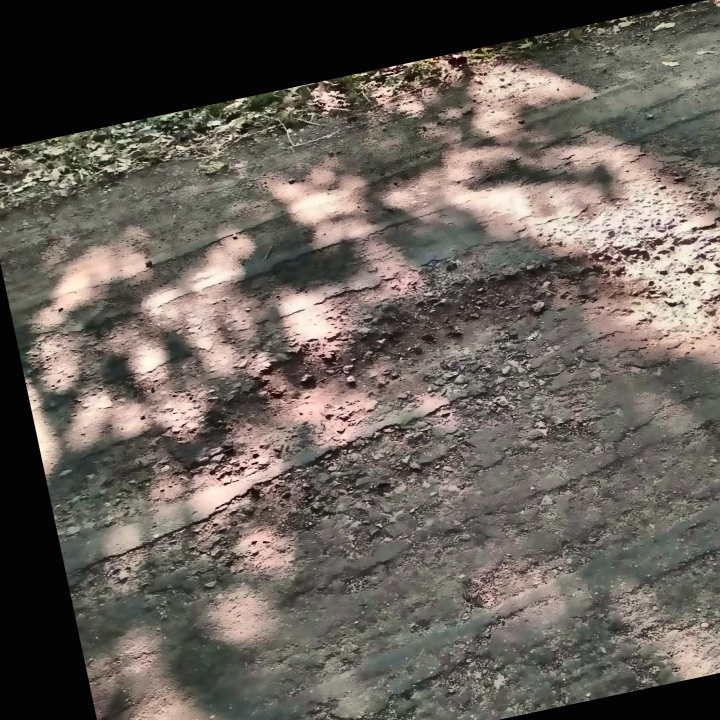pothole: (188, 236, 660, 470)
